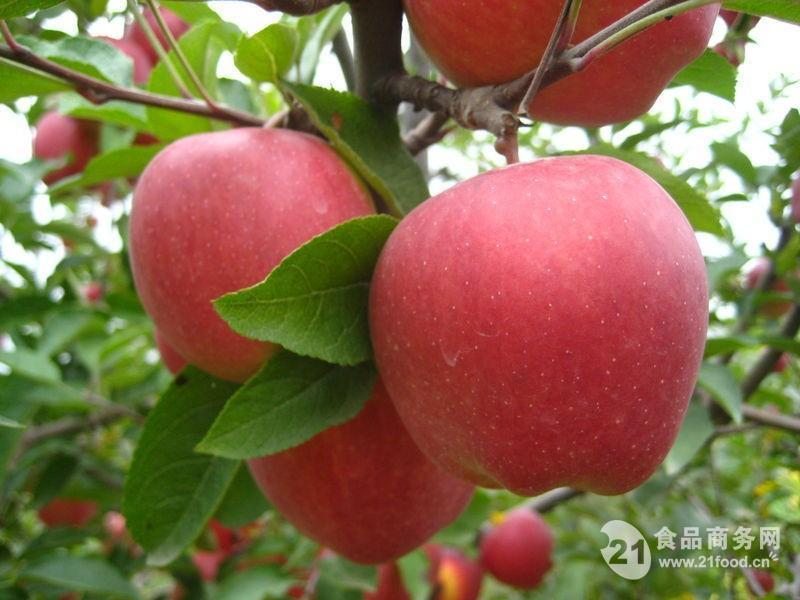apple: (349, 160, 709, 504), (123, 123, 382, 383), (255, 397, 469, 564), (417, 1, 700, 115)
